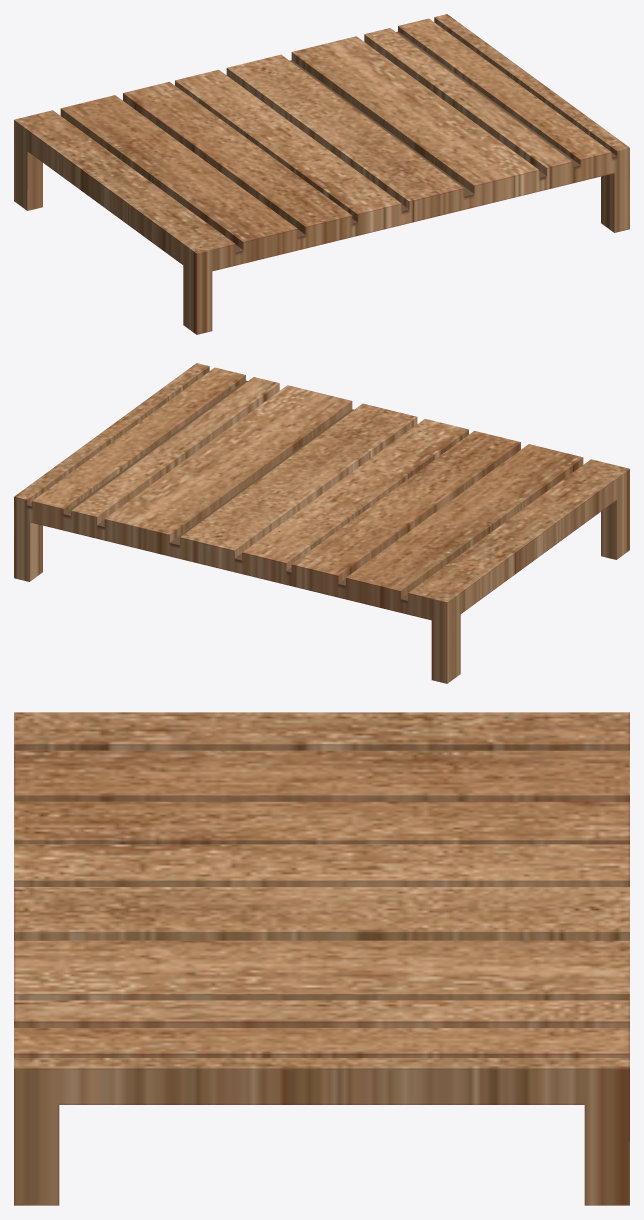
Rendered from Stage_2.fbx.
The picture shows the model from 3 angles, top to bottom: view 1: azimuth 30°, elevation 25°; view 2: azimuth 150°, elevation 25°; view 3: azimuth 270°, elevation 25°; orthographic projection. The views are drawn at different scales.
Visible parts, largest first — view 1: Stage_2.001; view 2: Stage_2.001; view 3: Stage_2.001.
Boxes of the visible parts, x1,y1,x2,y2 form: Stage_2.001: (14,14,629,334); Stage_2.001: (14,363,629,683); Stage_2.001: (14,712,629,1205).
Size of the model in its own units: 16.7 by 3 by 12.2.
1 material, 1 textured.
